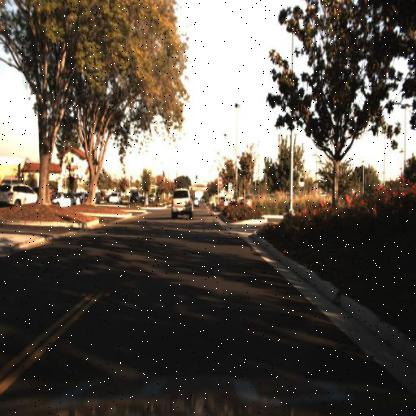car: (165, 182, 196, 223), (0, 180, 37, 207), (49, 186, 80, 212), (126, 189, 140, 209), (106, 188, 121, 206), (145, 190, 156, 208), (137, 194, 147, 210)
